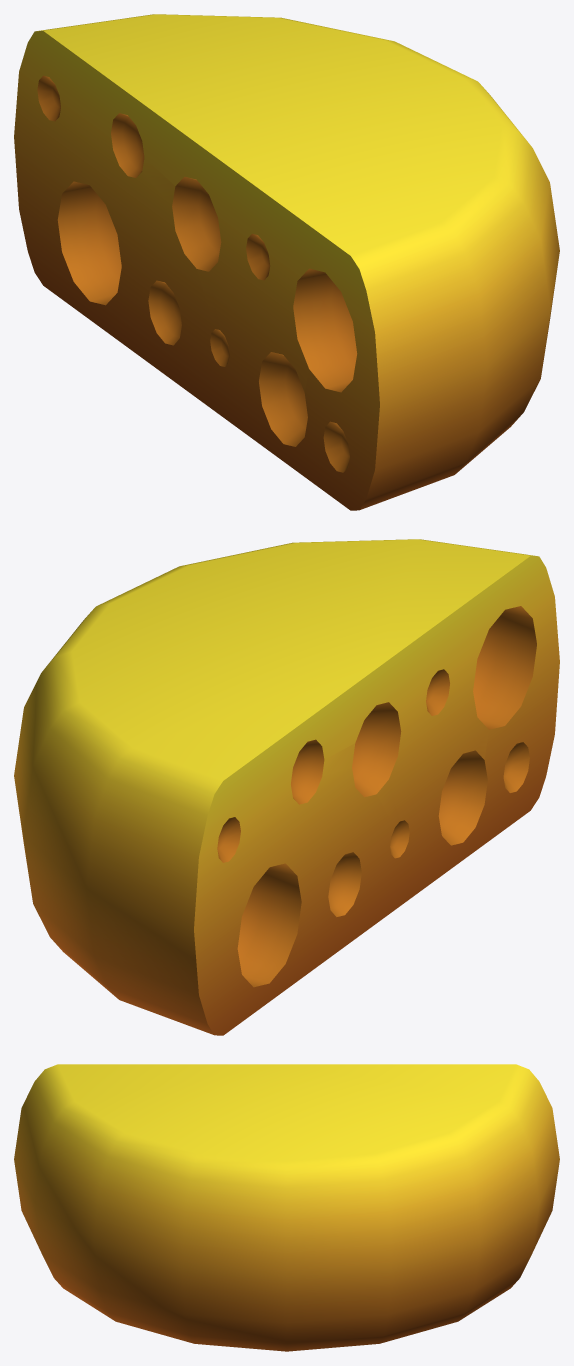
Rendered from Hole_Cheese_Half_01.glb.
3 views of the same model, one above another, from view 1: azimuth 30°, elevation 25°; view 2: azimuth 150°, elevation 25°; view 3: azimuth 270°, elevation 25° (orthographic). The views are drawn at different scales.
Parts seen in each view (by area): view 1: Hole_Cheese_Half_01; view 2: Hole_Cheese_Half_01; view 3: Hole_Cheese_Half_01.
Boxes of the visible parts, <box> form: Hole_Cheese_Half_01: <box>14,14,559,510</box>; Hole_Cheese_Half_01: <box>14,539,559,1035</box>; Hole_Cheese_Half_01: <box>14,1064,559,1351</box>.
Size of the model in its own units: 0.3466 by 0.2662 by 0.6932.
Materials: 1 (1 with a texture image).
